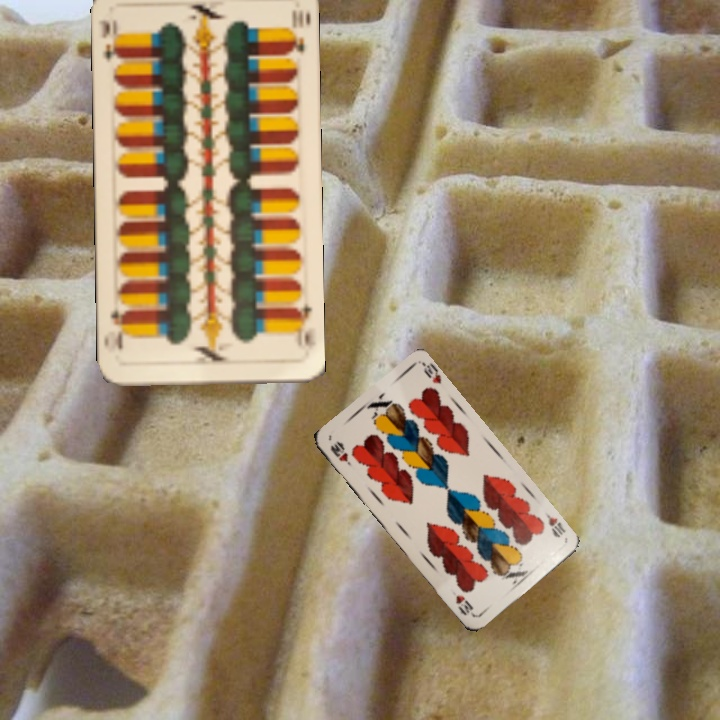E10: (289, 300, 316, 359), (98, 15, 125, 63)
H10: (540, 508, 568, 540), (326, 438, 354, 469)
